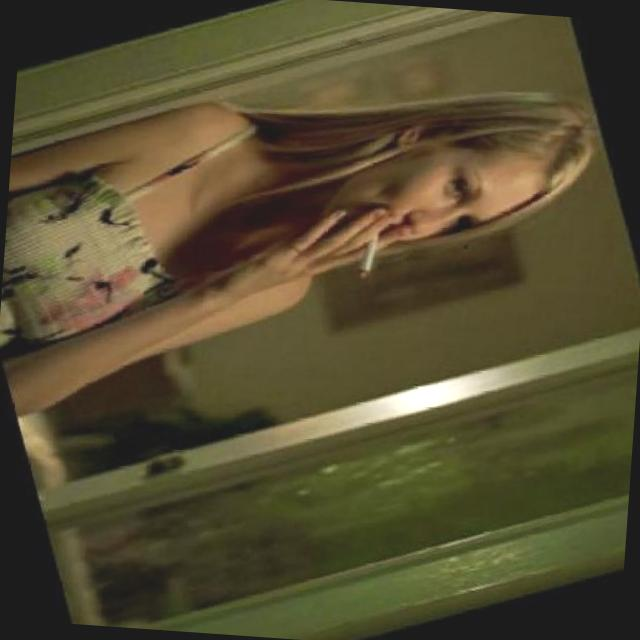smoke: (336, 224, 396, 285)
